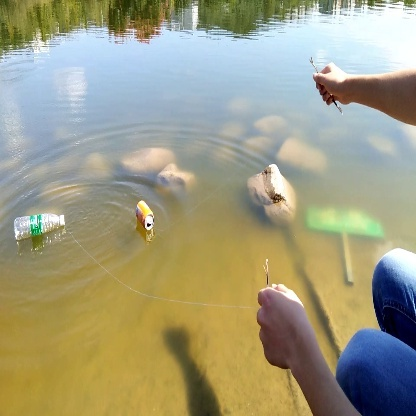bottle: (13, 212, 70, 241), (130, 195, 158, 233)
